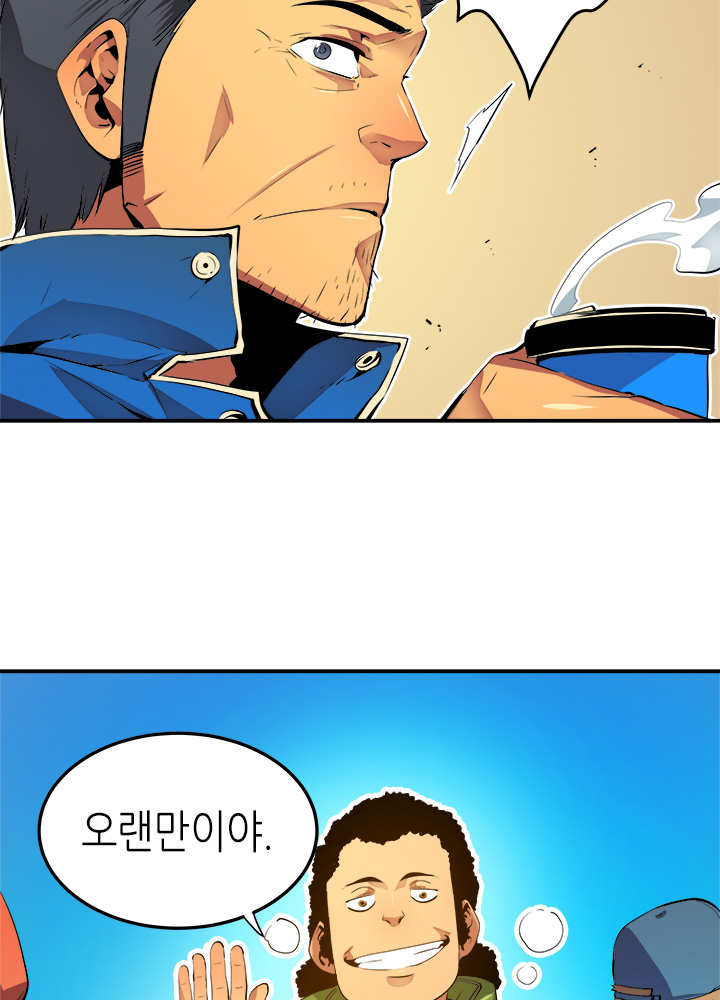dialog box: (13, 708, 359, 958)
text: (64, 782, 294, 886)
